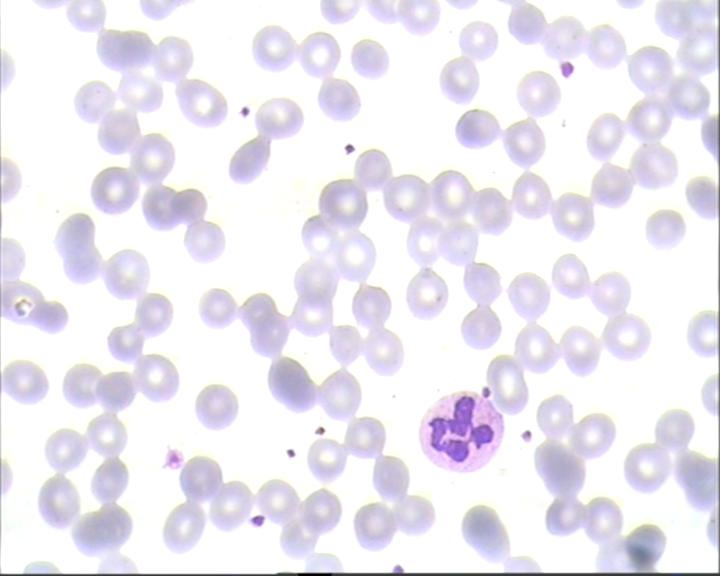neut: (418, 389, 504, 475)
